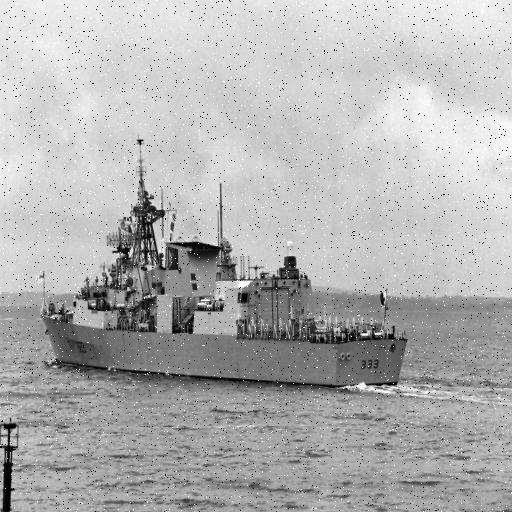Fragata: (40, 127, 410, 396)
